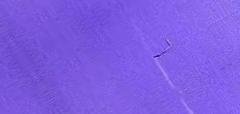snag: (149, 36, 175, 64)
